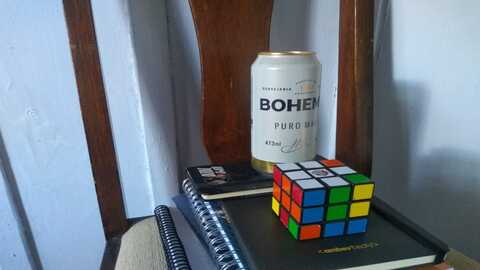bohemia: (253, 50, 323, 153)
